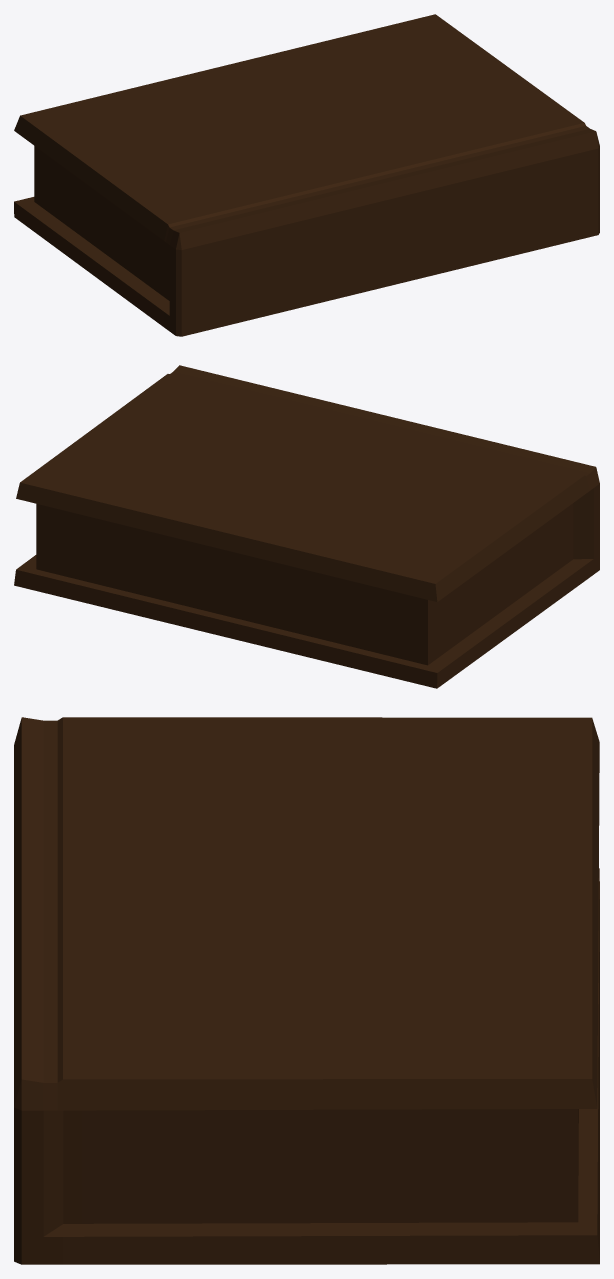
The model's file is BookClose1.FBX.
3 views of the same model, one above another, from view 1: azimuth 30°, elevation 25°; view 2: azimuth 150°, elevation 25°; view 3: azimuth 270°, elevation 25° (orthographic). The views are drawn at different scales.
Visible parts, largest first — view 1: Box188; view 2: Box188; view 3: Box188.
Part boxes in pixels (x1,y1,x2,y2): Box188: [14, 14, 599, 336]; Box188: [14, 365, 599, 688]; Box188: [14, 717, 599, 1264].
Size of the model in its own units: 103 by 69.48 by 23.83.
